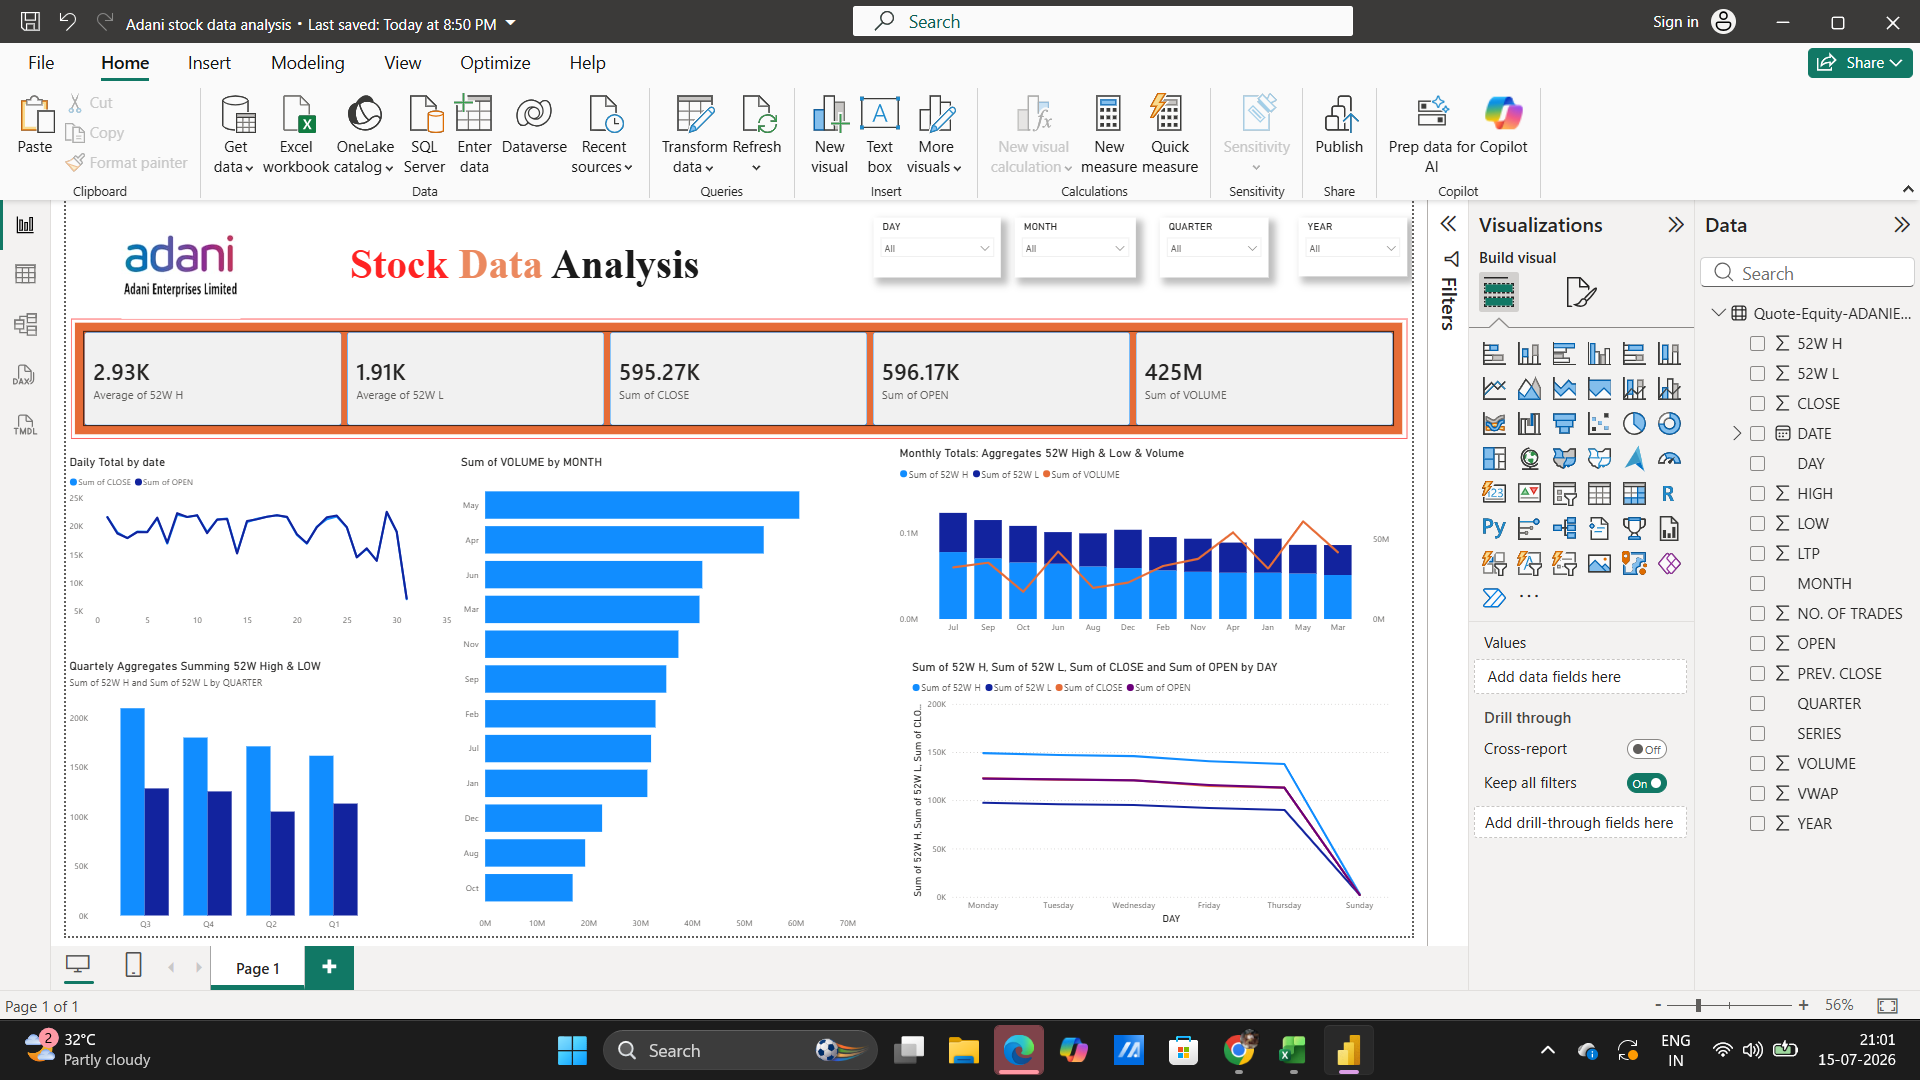

What the dashboard file says about the page in this screenshot:
{"tool":"powerbi","page":{"name":"Page 1","canvas":[1920,1050],"ordinal":0},"visuals":[{"type":"slicer","fields":{"Values":["Quote-Equity-ADANIENT-EQ-15-07-.DAY"]},"box":[1152,25,181.9,85.6],"z":0},{"type":"slicer","fields":{"Values":["Quote-Equity-ADANIENT-EQ-15-07-.MONTH "]},"box":[1353.5,25,173,85.6],"z":1},{"type":"slicer","fields":{"Values":["Quote-Equity-ADANIENT-EQ-15-07-.QUARTER"]},"box":[1560.4,25,155.1,85.6],"z":2},{"type":"slicer","fields":{"Values":["Quote-Equity-ADANIENT-EQ-15-07-.YEAR"]},"box":[1758.3,25,155.1,83.8],"z":3},{"type":"cardVisual","fields":{"Data":["Avg(Quote-Equity-ADANIENT-EQ-15-07-.52W H)","Avg(Quote-Equity-ADANIENT-EQ-15-07-.52W L)","Sum(Quote-Equity-ADANIENT-EQ-15-07-.CLOSE)","Sum(Quote-Equity-ADANIENT-EQ-15-07-.OPEN)","Sum(Quote-Equity-ADANIENT-EQ-15-07-.VOLUME)"]},"box":[7.1,169.4,1906.3,171.2],"z":4},{"type":"clusteredColumnChart","title":"Quartely Aggregates Summing 52W High & LOW","fields":{"Y":["Sum(Quote-Equity-ADANIENT-EQ-15-07-.52W H)","Sum(Quote-Equity-ADANIENT-EQ-15-07-.52W L)"],"Category":["Quote-Equity-ADANIENT-EQ-15-07-.QUARTER"]},"box":[0,654.5,460.1,395.9],"z":5},{"type":"lineStackedColumnComboChart","title":"Monthly Totals: Aggregates 52W High & Low & Volume","fields":{"Y":["Sum(Quote-Equity-ADANIENT-EQ-15-07-.52W H)","Sum(Quote-Equity-ADANIENT-EQ-15-07-.52W L)"],"Category":["Quote-Equity-ADANIENT-EQ-15-07-.MONTH "],"Y2":["Sum(Quote-Equity-ADANIENT-EQ-15-07-.VOLUME)"]},"box":[1184.1,351.3,709.8,276.4],"z":6},{"type":"lineChart","title":"Daily Total by date","fields":{"Category":["Quote-Equity-ADANIENT-EQ-15-07-.DATE.Variation.Date Hierarchy.Day"],"Y":["Sum(Quote-Equity-ADANIENT-EQ-15-07-.CLOSE)","Sum(Quote-Equity-ADANIENT-EQ-15-07-.OPEN)"]},"box":[0,363.8,558.2,253.2],"z":7},{"type":"lineChart","fields":{"Y":["Sum(Quote-Equity-ADANIENT-EQ-15-07-.52W H)","Sum(Quote-Equity-ADANIENT-EQ-15-07-.52W L)","Sum(Quote-Equity-ADANIENT-EQ-15-07-.CLOSE)","Sum(Quote-Equity-ADANIENT-EQ-15-07-.OPEN)"],"Category":["Quote-Equity-ADANIENT-EQ-15-07-.DAY"]},"box":[1201.9,656.3,691.9,381.6],"z":8},{"type":"clusteredBarChart","fields":{"Category":["Quote-Equity-ADANIENT-EQ-15-07-.MONTH "],"Y":["Sum(Quote-Equity-ADANIENT-EQ-15-07-.VOLUME)"]},"box":[558.2,363.8,574.2,686.6],"z":9},{"type":"image","box":[0,0,328.1,169.4],"z":10},{"type":"textbox","box":[313.9,53.5,681.2,112.3],"z":12}]}

Visuals, with their boxes on the page's 1920x1050 design canvas (x1, y1, x2, y2). These are canvas units, not pixel positions in the 1920x1080 screenshot, which may show the page scaled, cropped or inside an application window:
slicer - Quote-Equity-ADANIENT-EQ-15-07-.DAY: 1152:25:1334:111
slicer - Quote-Equity-ADANIENT-EQ-15-07-.MONTH : 1354:25:1526:111
slicer - Quote-Equity-ADANIENT-EQ-15-07-.QUARTER: 1560:25:1716:111
slicer - Quote-Equity-ADANIENT-EQ-15-07-.YEAR: 1758:25:1913:109
cardVisual - Avg(Quote-Equity-ADANIENT-EQ-15-07-.52W H) x Avg(Quote-Equity-ADANIENT-EQ-15-07-.52W L): 7:169:1913:341
"Quartely Aggregates Summing 52W High & LOW" clusteredColumnChart: 0:654:460:1050
"Monthly Totals: Aggregates 52W High & Low & Volume" lineStackedColumnComboChart: 1184:351:1894:628
"Daily Total by date" lineChart: 0:364:558:617
lineChart - Sum(Quote-Equity-ADANIENT-EQ-15-07-.52W H) x Sum(Quote-Equity-ADANIENT-EQ-15-07-.52W L): 1202:656:1894:1038
clusteredBarChart - Quote-Equity-ADANIENT-EQ-15-07-.MONTH  x Sum(Quote-Equity-ADANIENT-EQ-15-07-.VOLUME): 558:364:1132:1050
image: 0:0:328:169
textbox: 314:54:995:166
